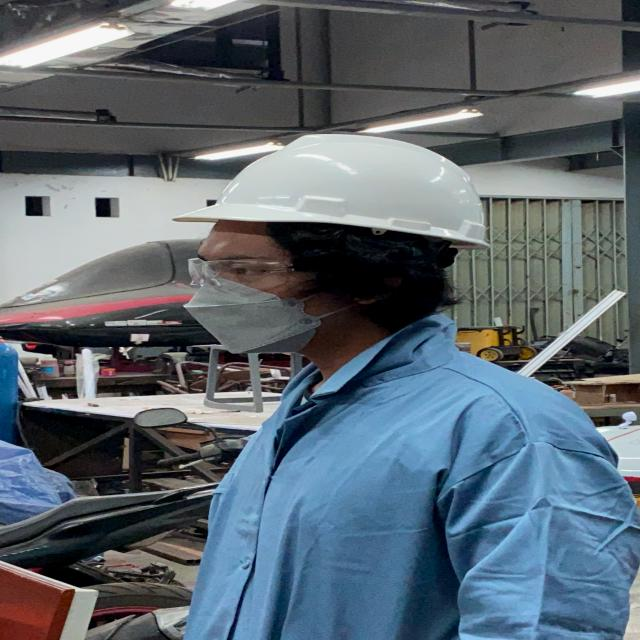face_mask: (175, 251, 317, 352)
glasses: (174, 255, 312, 294)
head_helmet: (190, 133, 488, 241)
person: (140, 122, 621, 640)
